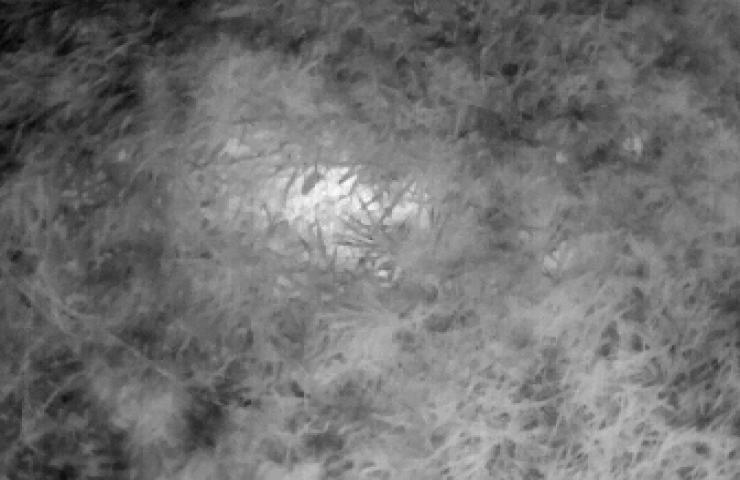landmines: (225, 156, 434, 281)
